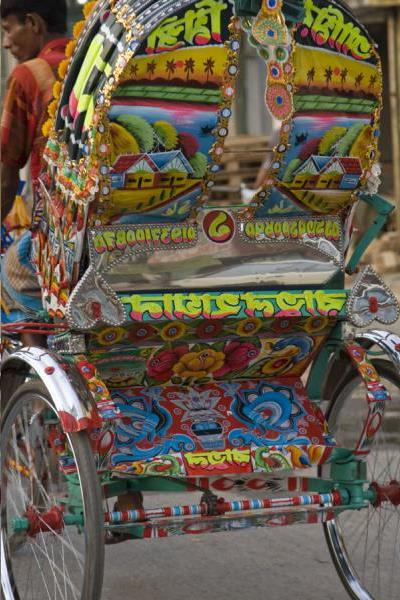Rickshaw: (2, 2, 392, 532)
